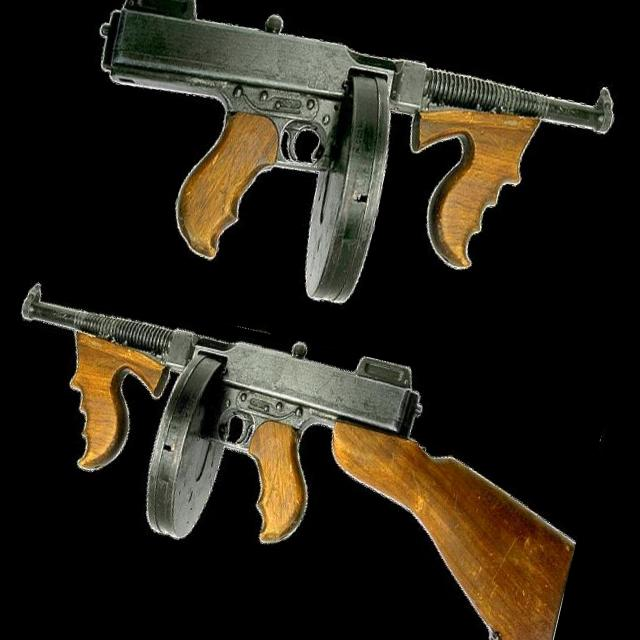Gun: (21, 285, 575, 640), (101, 0, 613, 302)
